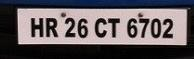0: (150, 17, 162, 39)
2: (161, 17, 176, 39), (63, 17, 76, 38)
6: (125, 17, 139, 39), (76, 18, 89, 38)
7: (138, 17, 151, 38)
C: (92, 17, 108, 38)
H: (29, 17, 46, 38)
R: (45, 17, 60, 38)
T: (107, 17, 121, 38)
